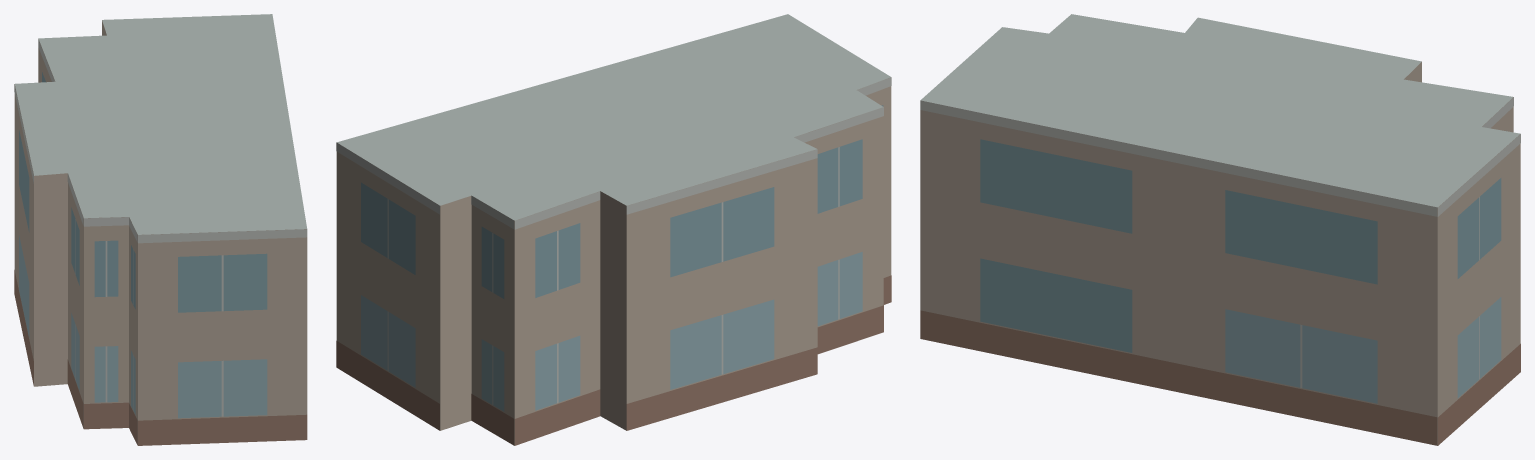
The model's file is survey-upis-32655372.glb.
The picture shows the model from 3 angles, left to right: view 1: azimuth 30°, elevation 25°; view 2: azimuth 150°, elevation 25°; view 3: azimuth 270°, elevation 25°; orthographic projection. The views are drawn at different scales.
Visible parts, largest first — view 1: survey-upis-32655372.tmp; view 2: survey-upis-32655372.tmp; view 3: survey-upis-32655372.tmp.
Part boxes in pixels (x1,y1,x2,y2): survey-upis-32655372.tmp: (14, 14, 307, 445); survey-upis-32655372.tmp: (336, 14, 891, 445); survey-upis-32655372.tmp: (920, 14, 1520, 445).
Size of the model in its own units: 10.62 by 6.1 by 13.93.
